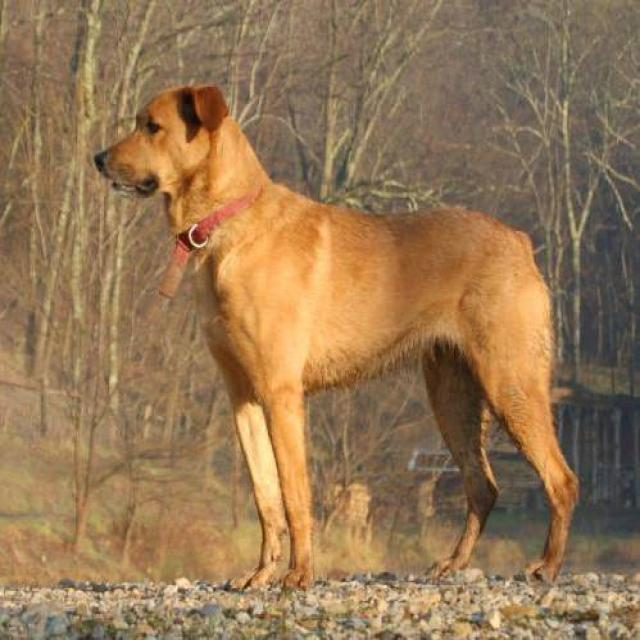dog: (92, 82, 581, 592)
